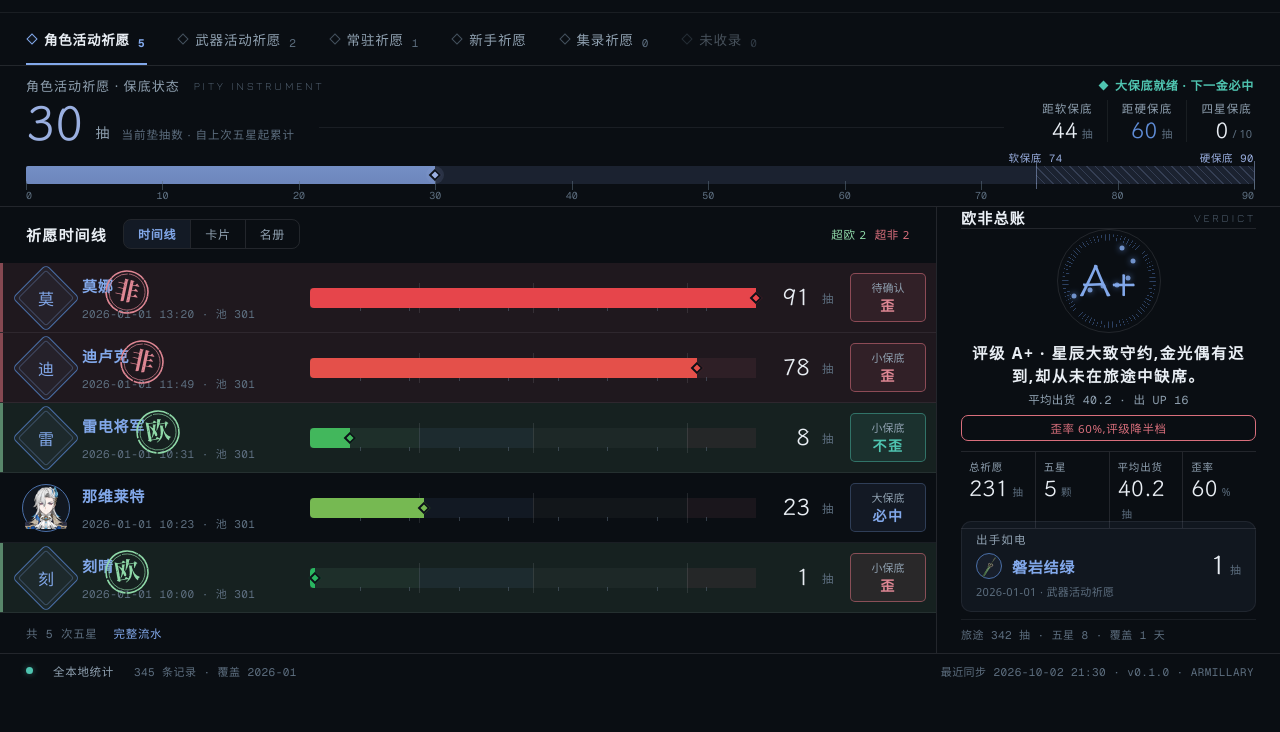
Test: BoardView · T17 返工(rosterStale 提示行 / 保底仪空态与缺口提示) › 保底仪空态:作用域 totalPulls===0 显空态文案,不渲染 0/90 刻度(返工 #2)
Click the button "集录祈愿 0" at (605, 39), box top-left (558, 13), bottom-right (651, 65)
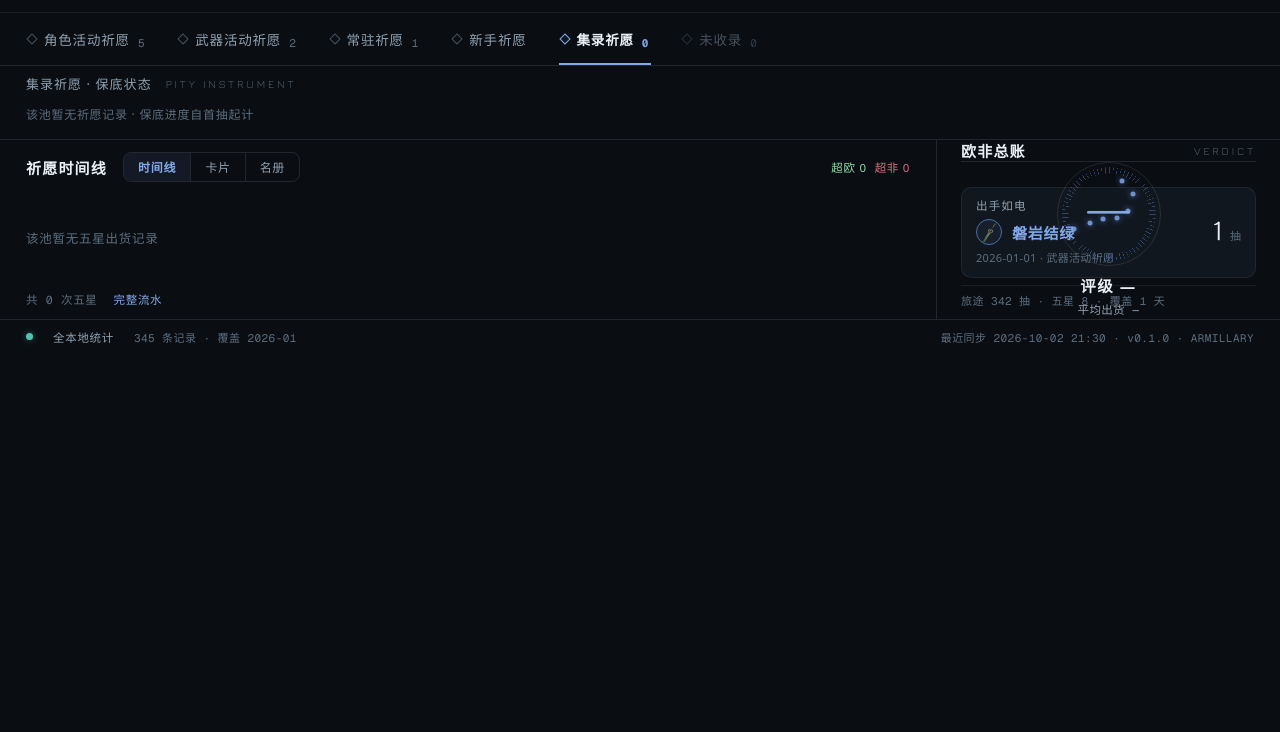
Expected: the element showing "集录祈愿 · 保底状态 PITY INSTRUMENT 该池暂无祈愿记录 · 保底进度自首抽起计" is shown, top-left (0, 66), bottom-right (1279, 140)
Result: the text "该池暂无祈愿记录 · 保底进度自首抽起计" is shown at top-left (26, 106), bottom-right (254, 123)
